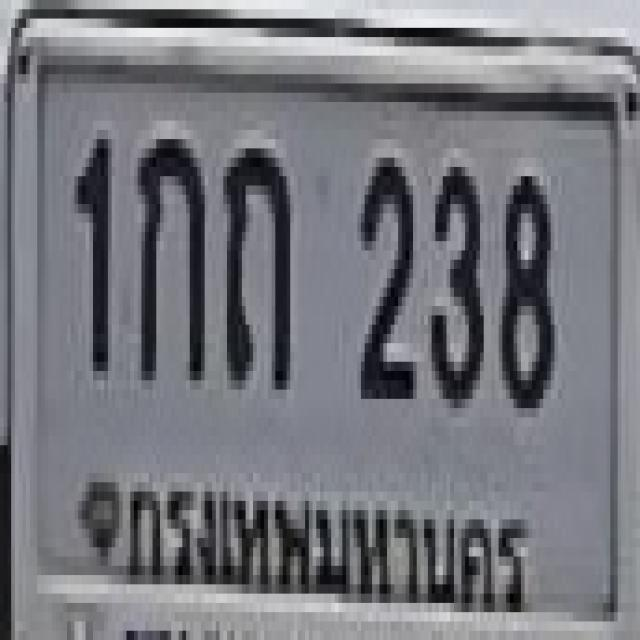-: (134, 130, 201, 371), (220, 139, 286, 380)
1: (71, 126, 108, 367)
2: (356, 148, 412, 390)
3: (428, 158, 480, 399)
8: (498, 162, 550, 394)
BKK: (116, 458, 538, 630)
